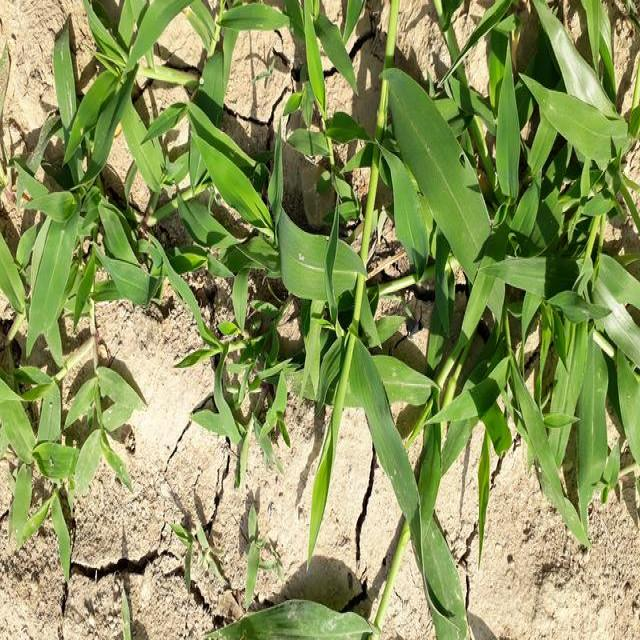weed: (68, 12, 424, 359), (390, 0, 640, 493), (9, 175, 130, 546), (210, 599, 383, 640), (0, 0, 275, 10)
